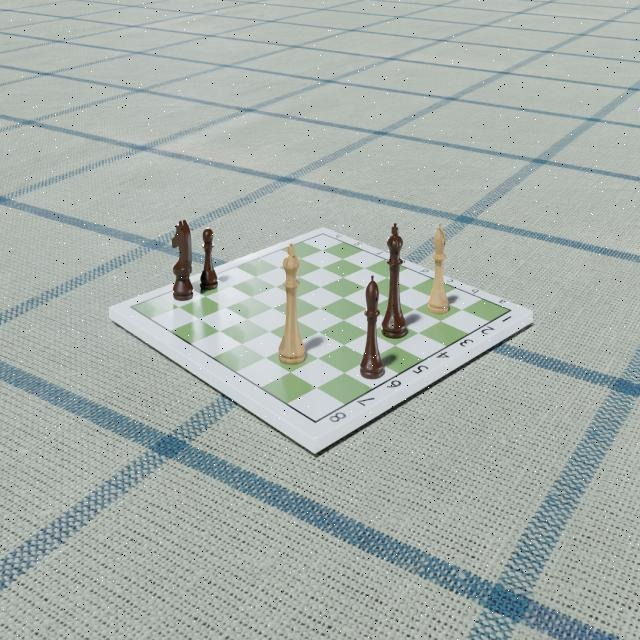black-bishop: (358, 274, 385, 382)
black-king: (380, 221, 408, 342)
black-knight: (170, 217, 195, 302)
black-pawn: (198, 225, 218, 291)
white-bishop: (426, 220, 450, 316)
white-king: (277, 240, 307, 367)
